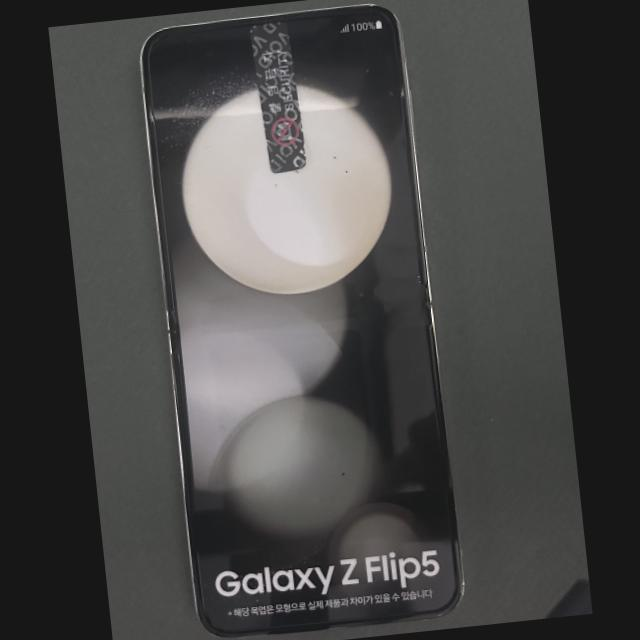phone: (138, 3, 464, 639)
sticker: (249, 20, 306, 173)
